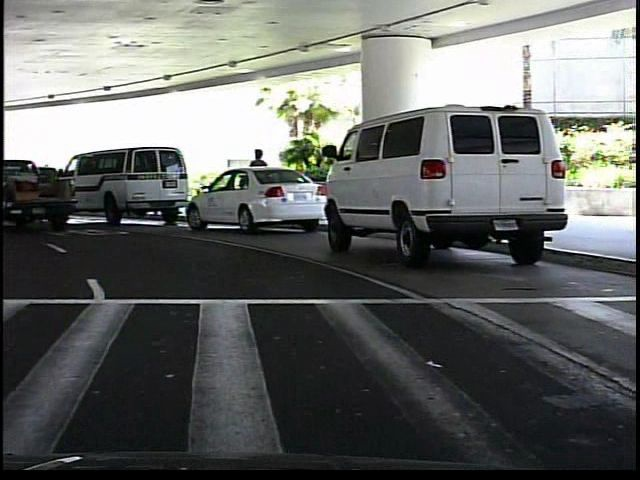person: (246, 144, 275, 220)
